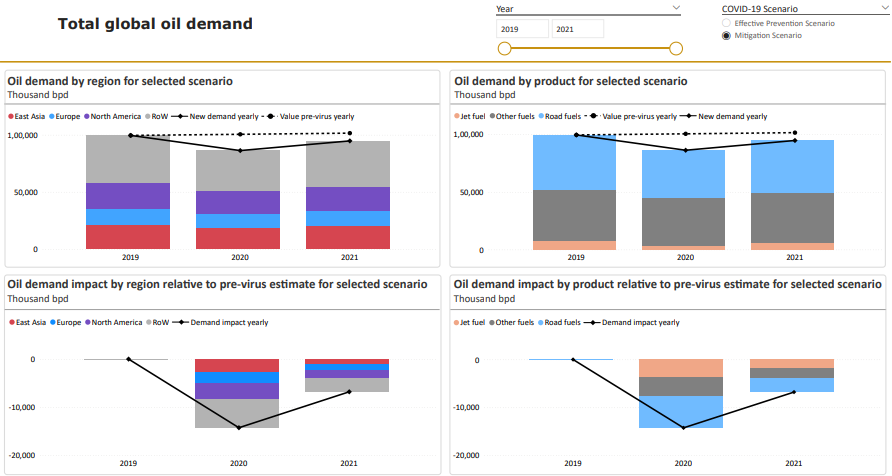

The page's visual inventory and layout, read from the dashboard file:
{"tool":"powerbi","page":{"name":"Yearly Demand by fuel type","canvas":[1700,900],"ordinal":9},"visuals":[{"type":"basicShape","box":[10.3,512.4,557.1,380.6],"z":0},{"type":"basicShape","box":[1132.3,513.5,557.5,380.5],"z":1000},{"type":"basicShape","box":[569.7,512.4,558.3,380.6],"z":2000},{"type":"basicShape","box":[10.4,128.4,557.5,380.5],"z":3000},{"type":"basicShape","box":[570.2,128.4,557.5,380.5],"z":4000},{"type":"basicShape","box":[1132.6,128.4,557.1,380.6],"z":5000},{"type":"image","box":[9.2,5.7,87.1,92.9],"z":6000},{"type":"basicShape","box":[8,188,562.7,18.7],"z":7000},{"type":"basicShape","box":[568,188.5,562.8,19.4],"z":8000},{"type":"basicShape","box":[1130.3,189.1,561.7,18.3],"z":9000},{"type":"textbox","box":[19.4,131.7,530.5,64.5],"z":10000},{"type":"textbox","box":[578.9,133,539.9,64.2],"z":11000},{"type":"textbox","box":[1140.6,134.1,539.9,64.2],"z":12000},{"type":"textbox","box":[113.5,0,520.4,118.1],"z":13000},{"type":"basicShape","box":[0,99.1,1699.8,35.5],"z":14000},{"type":"lineStackedColumnComboChart","title":"Y road imp","fields":{"Category":["yearly.Year"],"Series":["yearly.Corona-region"],"Y":["Sum(yearly.Demand impact yearly)"],"Y2":["Sum(yearly.Demand impact yearly)"]},"box":[19.4,518.9,539.6,362.7],"z":18000},{"type":"lineStackedColumnComboChart","title":"Y road","fields":{"Category":["yearly.Year"],"Series":["yearly.Corona-region"],"Y":["Sum(yearly.New demand yearly)"],"Y2":["Sum(yearly.Value pre-virus yearly)","Sum(yearly.New demand yearly)"]},"box":[19.4,198.8,539.6,304.6],"z":20000},{"type":"lineStackedColumnComboChart","title":"Y Other","fields":{"Category":["yearly.Year"],"Series":["yearly.Corona-region"],"Y":["Sum(yearly.New demand yearly)"],"Y2":["Sum(yearly.Value pre-virus yearly)","Sum(yearly.New demand yearly)"]},"box":[1139.7,198.3,539.7,305.2],"z":22000},{"type":"lineStackedColumnComboChart","title":"Y other imp","fields":{"Category":["yearly.Year"],"Series":["yearly.Corona-region"],"Y":["Sum(yearly.Demand impact yearly)"],"Y2":["Sum(yearly.Demand impact yearly)"]},"box":[1139.7,519,539.7,362.1],"z":23000},{"type":"lineStackedColumnComboChart","title":"Y jet imp","fields":{"Category":["yearly.Year"],"Series":["yearly.Corona-region"],"Y":["Sum(yearly.Demand impact yearly)"],"Y2":["Sum(yearly.Demand impact yearly)"]},"box":[577.6,519,539.7,362.1],"z":23250},{"type":"lineStackedColumnComboChart","title":"Y jet","fields":{"Category":["yearly.Year"],"Series":["yearly.Corona-region"],"Y":["Sum(yearly.New demand yearly)"],"Y2":["Sum(yearly.Value pre-virus yearly)","Sum(yearly.New demand yearly)"]},"box":[577.6,198.3,539.7,305.2],"z":23500},{"type":"slicer","title":"Y scenario slicer","fields":{"Values":["yearly.COVID-19 Scenario"]},"box":[1345,9,342.1,105.8],"z":23750},{"type":"slicer","title":"Y slicer","fields":{"Values":["MonthlyMain.Year"]},"box":[890.7,0,228.5,169.1],"z":24000}]}

Visuals, with their boxes in screenshot pixels (x1, y1, x2, y2), scaled from the page's 1700x900 canvas onto the 892x476 screenshot:
basicShape: <bbox>5, 271, 298, 472</bbox>
basicShape: <bbox>594, 272, 887, 473</bbox>
basicShape: <bbox>299, 271, 592, 472</bbox>
basicShape: <bbox>5, 68, 298, 269</bbox>
basicShape: <bbox>299, 68, 592, 269</bbox>
basicShape: <bbox>594, 68, 887, 269</bbox>
image: <bbox>5, 3, 51, 52</bbox>
basicShape: <bbox>4, 99, 299, 109</bbox>
basicShape: <bbox>298, 100, 593, 110</bbox>
basicShape: <bbox>593, 100, 888, 110</bbox>
textbox: <bbox>10, 70, 289, 104</bbox>
textbox: <bbox>304, 70, 587, 104</bbox>
textbox: <bbox>598, 71, 882, 105</bbox>
textbox: <bbox>60, 0, 333, 62</bbox>
basicShape: <bbox>0, 52, 891, 71</bbox>
"Y road imp" lineStackedColumnComboChart: <bbox>10, 274, 293, 466</bbox>
"Y road" lineStackedColumnComboChart: <bbox>10, 105, 293, 266</bbox>
"Y Other" lineStackedColumnComboChart: <bbox>598, 105, 881, 266</bbox>
"Y other imp" lineStackedColumnComboChart: <bbox>598, 274, 881, 466</bbox>
"Y jet imp" lineStackedColumnComboChart: <bbox>303, 274, 586, 466</bbox>
"Y jet" lineStackedColumnComboChart: <bbox>303, 105, 586, 266</bbox>
"Y scenario slicer" slicer: <bbox>706, 5, 885, 61</bbox>
"Y slicer" slicer: <bbox>467, 0, 587, 89</bbox>
